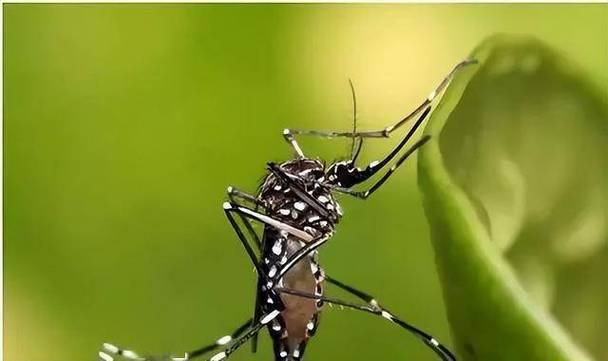Cecidomyiidae: (99, 60, 469, 361)
